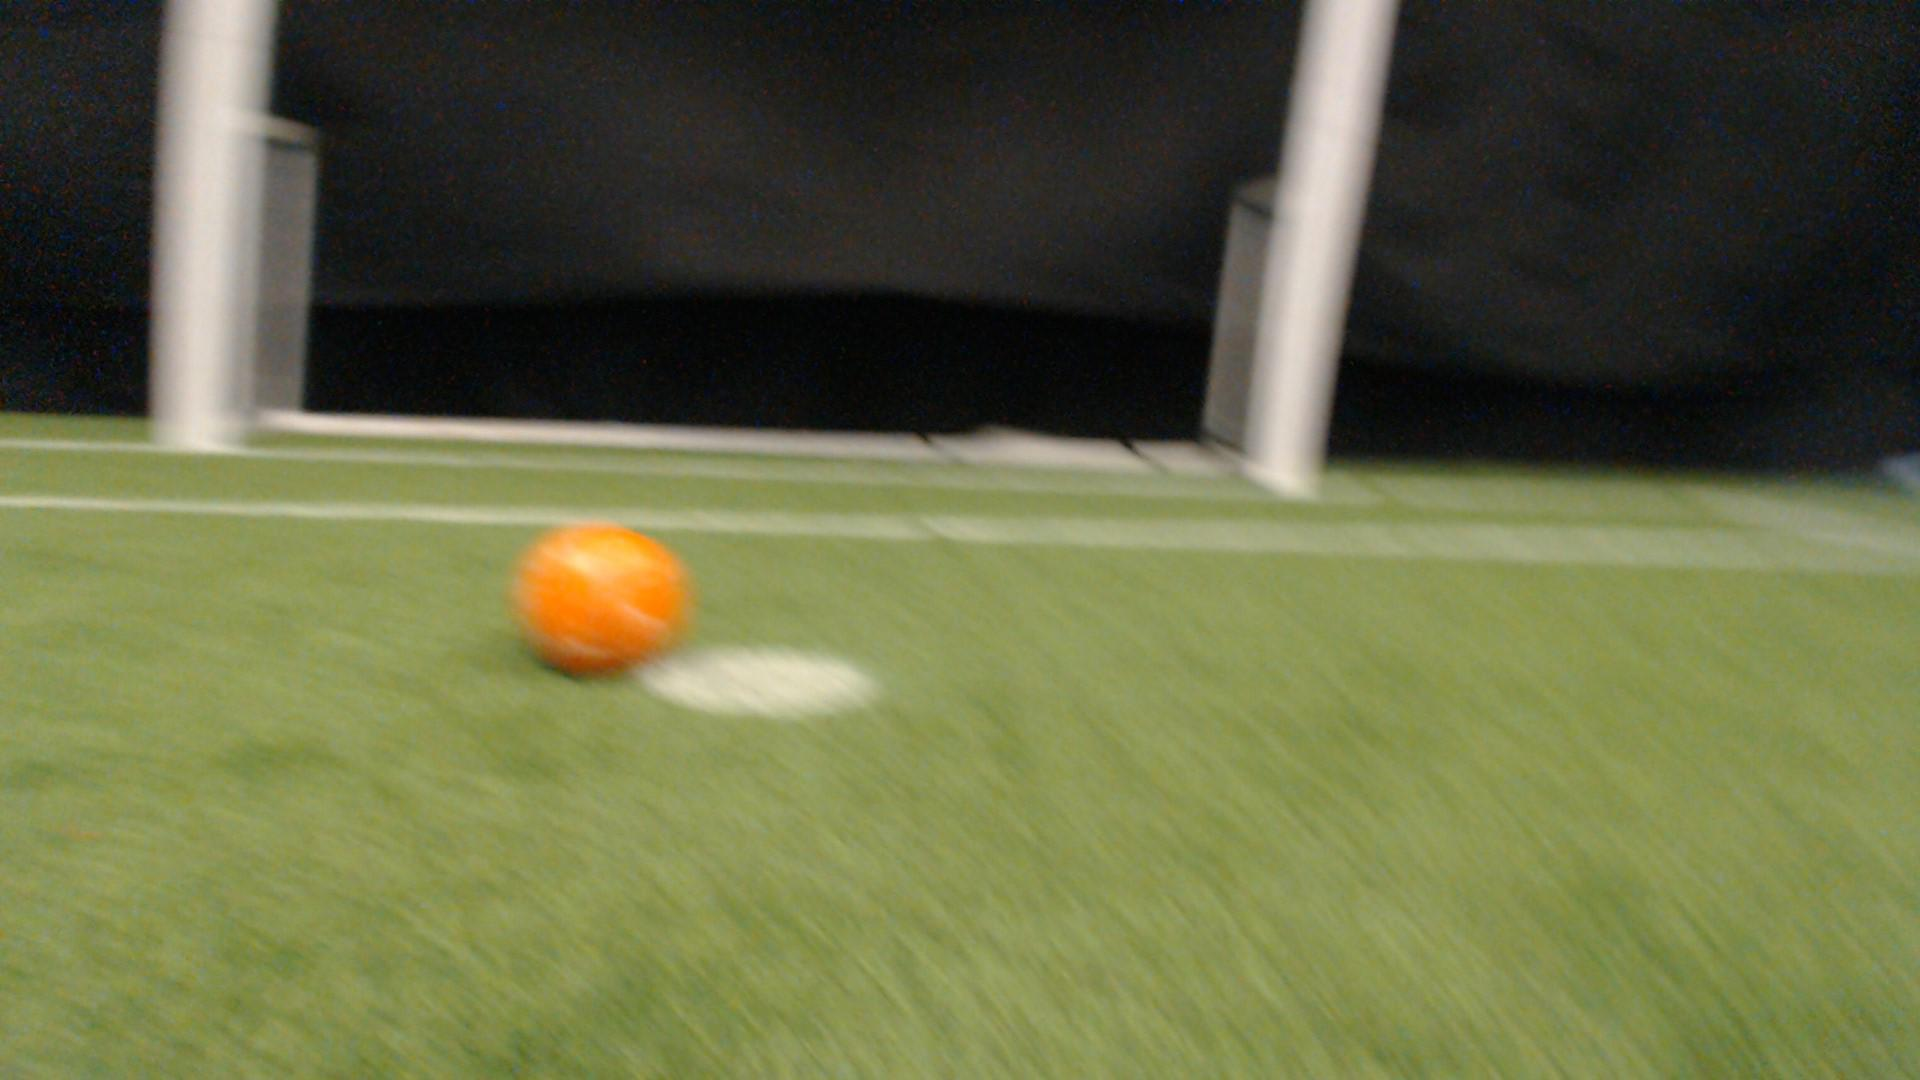bola: (501, 509, 705, 676)
